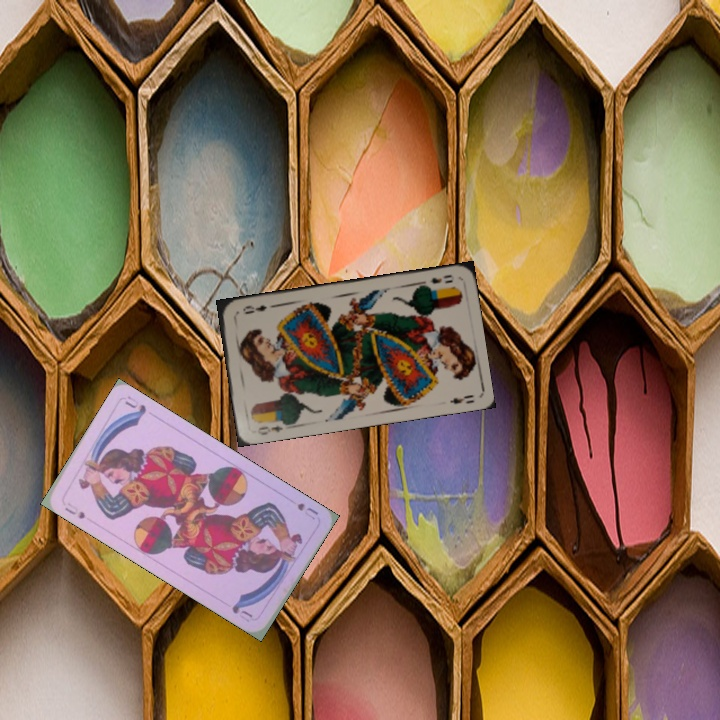EO: (419, 271, 455, 291), (253, 422, 285, 438)
SU: (293, 499, 321, 522), (61, 503, 88, 522)
